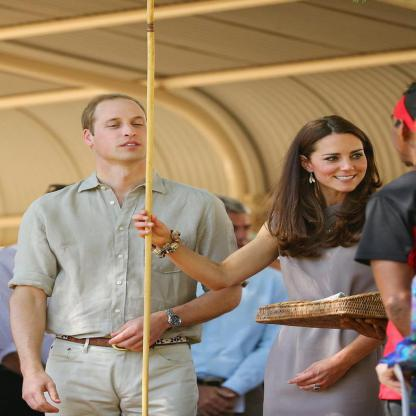face: (314, 126, 370, 195), (97, 103, 152, 161)
